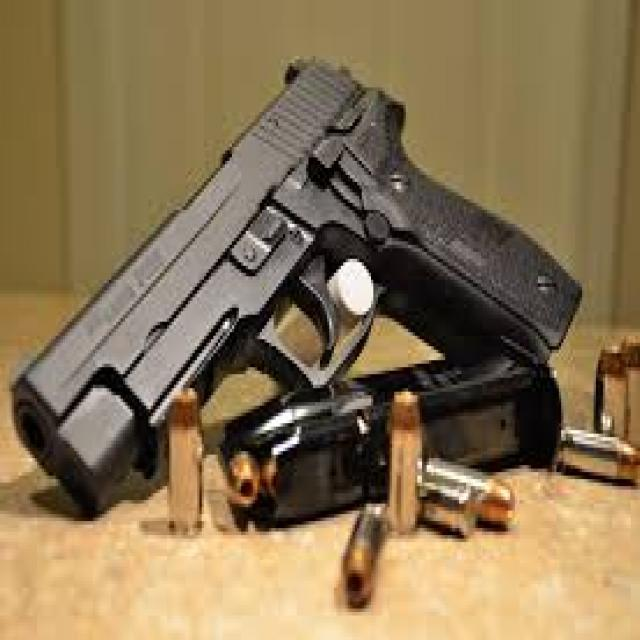semi automatic: (6, 52, 588, 622)
